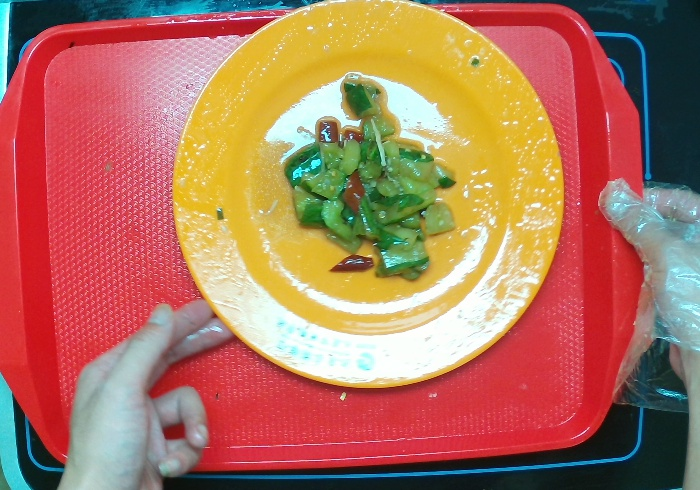YKMZ-Ju_Se_Mian_Pan: (170, 1, 566, 391)
